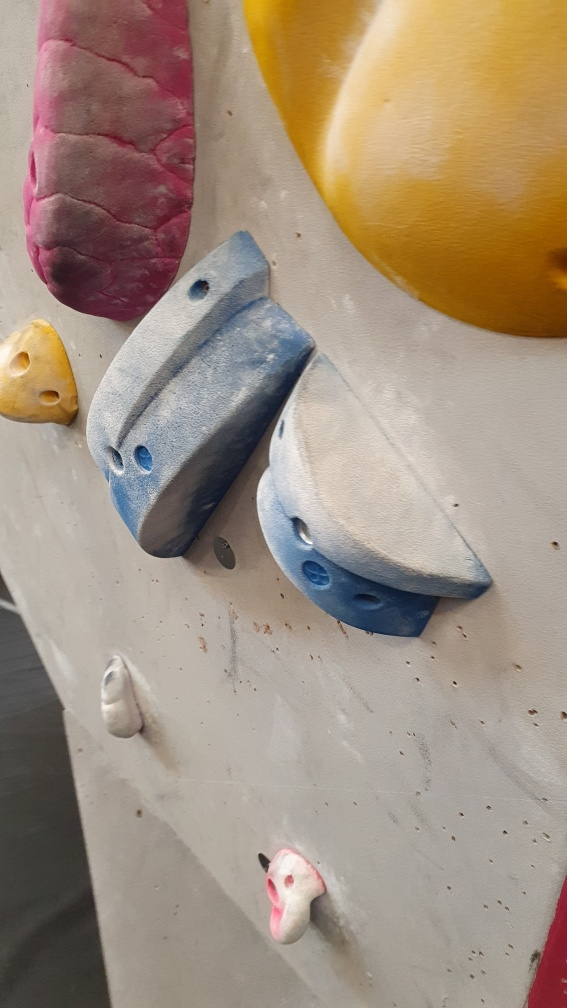Hand Start: (205, 530, 241, 572)
Pinch: (90, 229, 320, 560), (260, 350, 498, 644)
